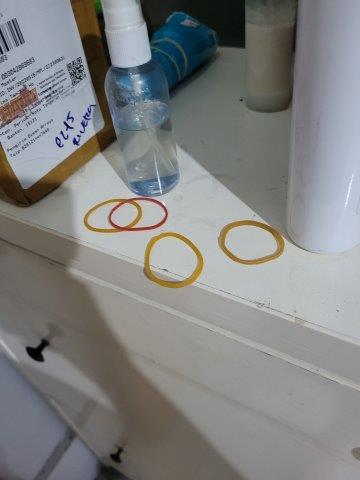karet: (143, 233, 204, 290), (220, 220, 286, 266), (110, 195, 168, 233), (83, 198, 141, 232)
